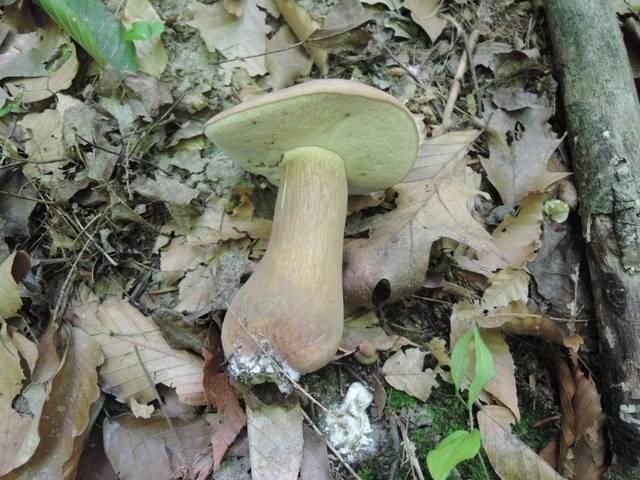Non-edible Mushroom: (201, 76, 420, 390)
